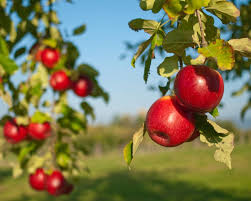apple: (145, 97, 195, 146), (170, 68, 225, 108), (26, 119, 56, 142), (50, 68, 76, 94), (4, 119, 29, 144), (44, 172, 72, 193), (72, 78, 96, 102), (38, 50, 63, 70), (30, 167, 49, 187)
